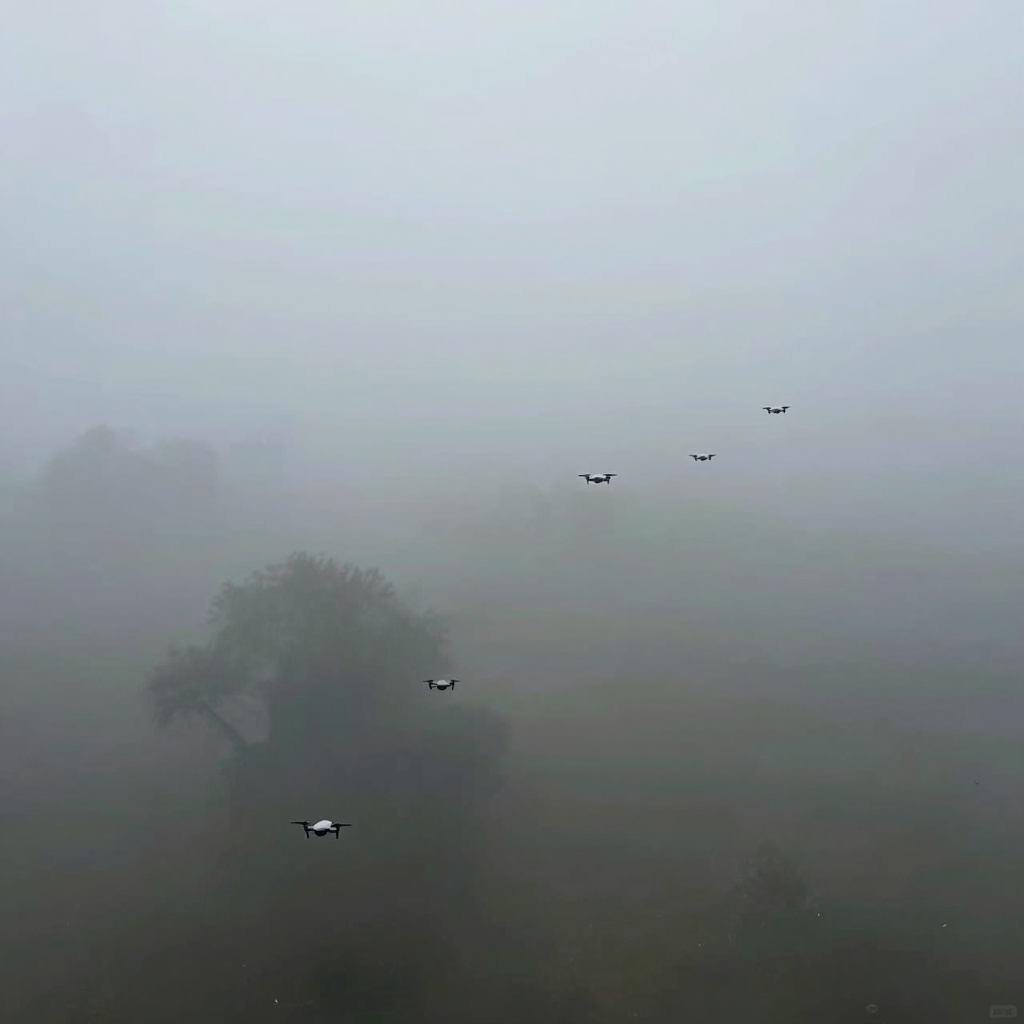drone: (290, 820, 352, 840), (578, 473, 618, 485), (422, 679, 460, 691), (762, 406, 791, 415), (689, 454, 716, 462)
